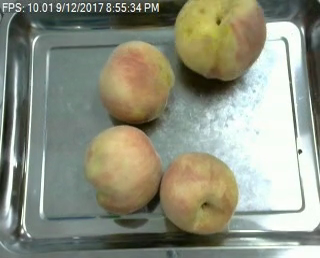Peach: (174, 0, 265, 80), (84, 123, 162, 214), (160, 151, 238, 234), (99, 39, 174, 123)
